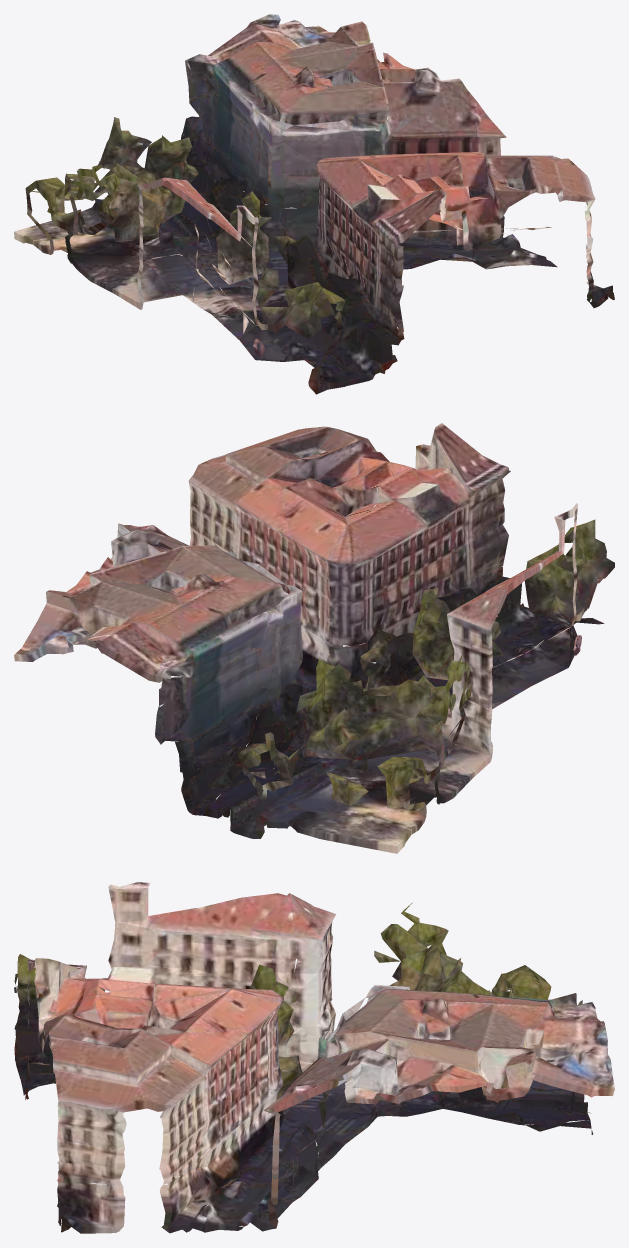
The picture shows the model from 3 angles, top to bottom: view 1: azimuth 30°, elevation 25°; view 2: azimuth 150°, elevation 25°; view 3: azimuth 270°, elevation 25°; orthographic projection. The views are drawn at different scales.
Visible parts, largest first — view 1: Mesh_0; view 2: Mesh_0; view 3: Mesh_0.
Part boxes in pixels (left/top/right/bottom): Mesh_0: left=14, top=14, right=614, bottom=394; Mesh_0: left=14, top=423, right=614, bottom=853; Mesh_0: left=14, top=882, right=614, bottom=1233.
Bounding box in the file's own units: 66.57 × 30.59 × 82.51.
Materials: 1 (1 with a texture image).
